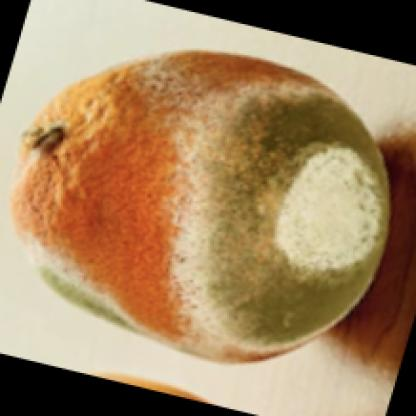rotten: (18, 49, 395, 367)
